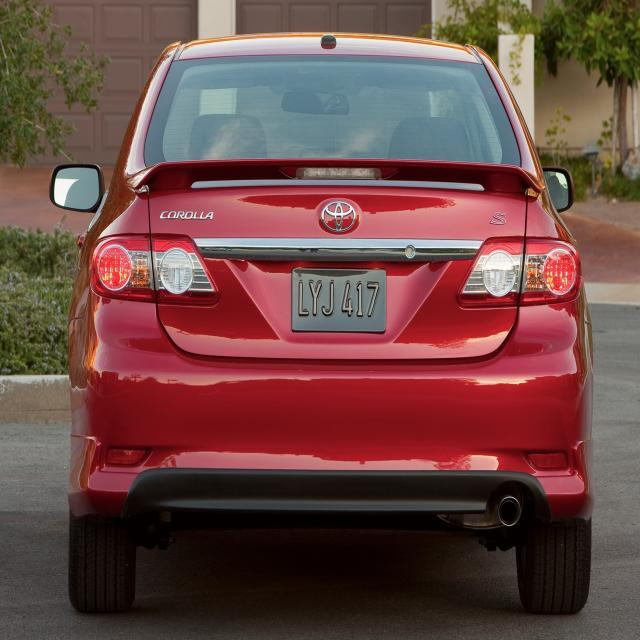Car: (49, 17, 601, 630)
